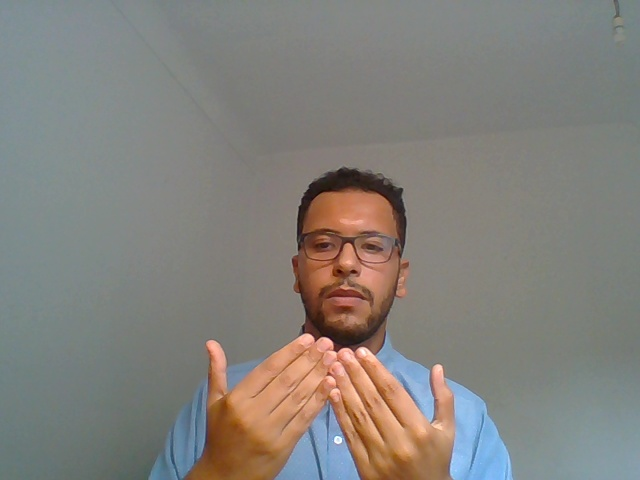thanks: (150, 308, 492, 480)
